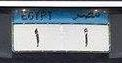1: (32, 28, 41, 47)
alif: (80, 27, 89, 48)
